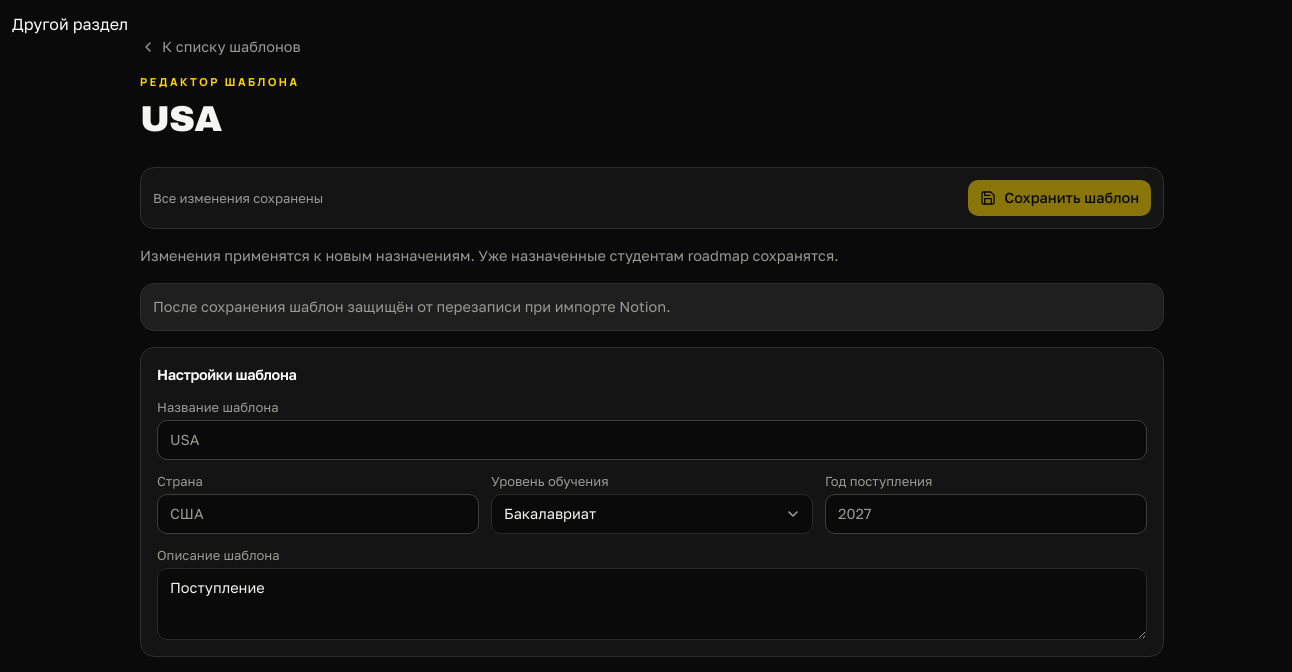
при конфликте версий блокирует перезапись и загружает текущую версию
Replace the text in the field labelled "Название шаблона" with "Моя версия" at (652, 440), box [157, 420, 1147, 460]
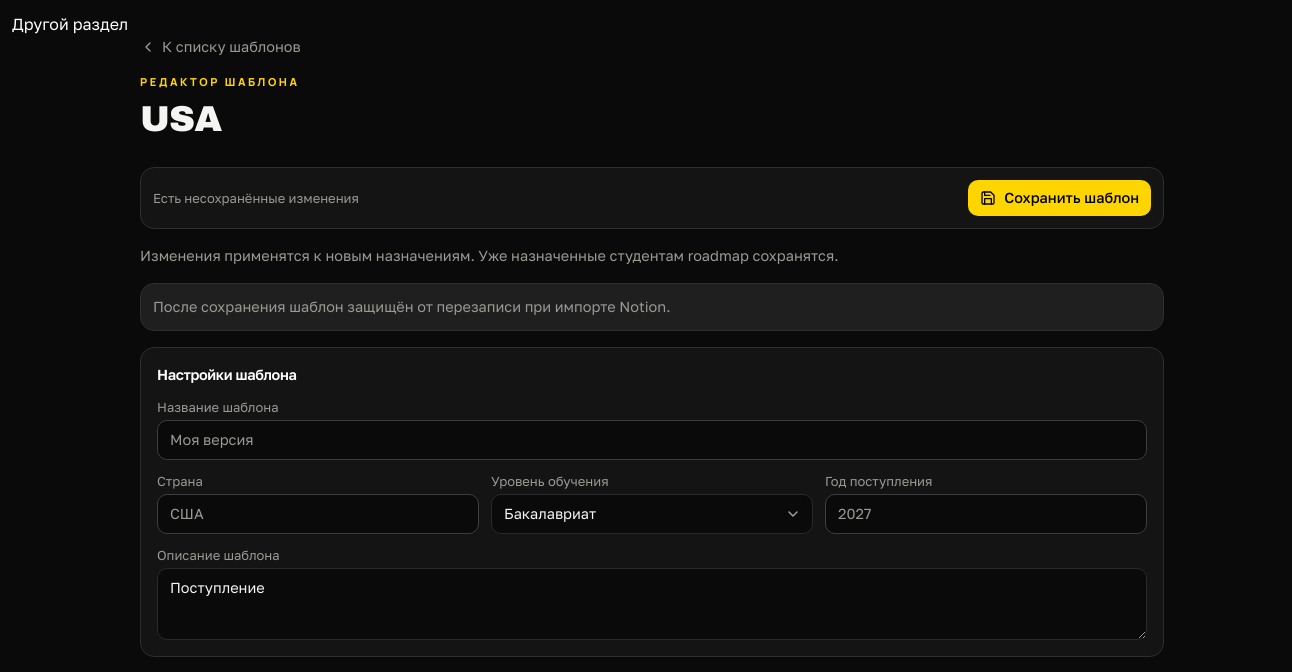
Click the button "Сохранить шаблон".
click(1060, 198)  # box [968, 180, 1151, 216]
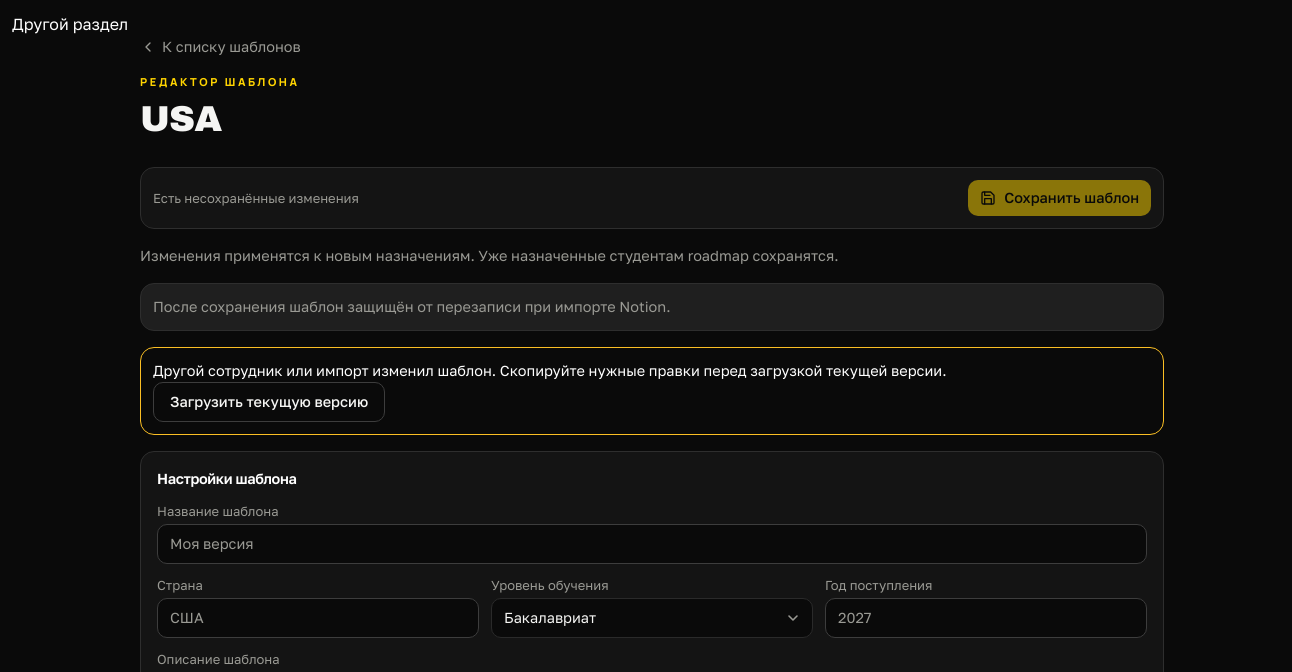
expect the 2nd message shows "Другой сотрудник": met, box [153, 362, 946, 378]
expect the button "Сохранить шаблон" is disabled: met, box [968, 180, 1151, 216]
Click the button "Загрузить текущую версию".
click(269, 402)  # box [153, 382, 385, 422]
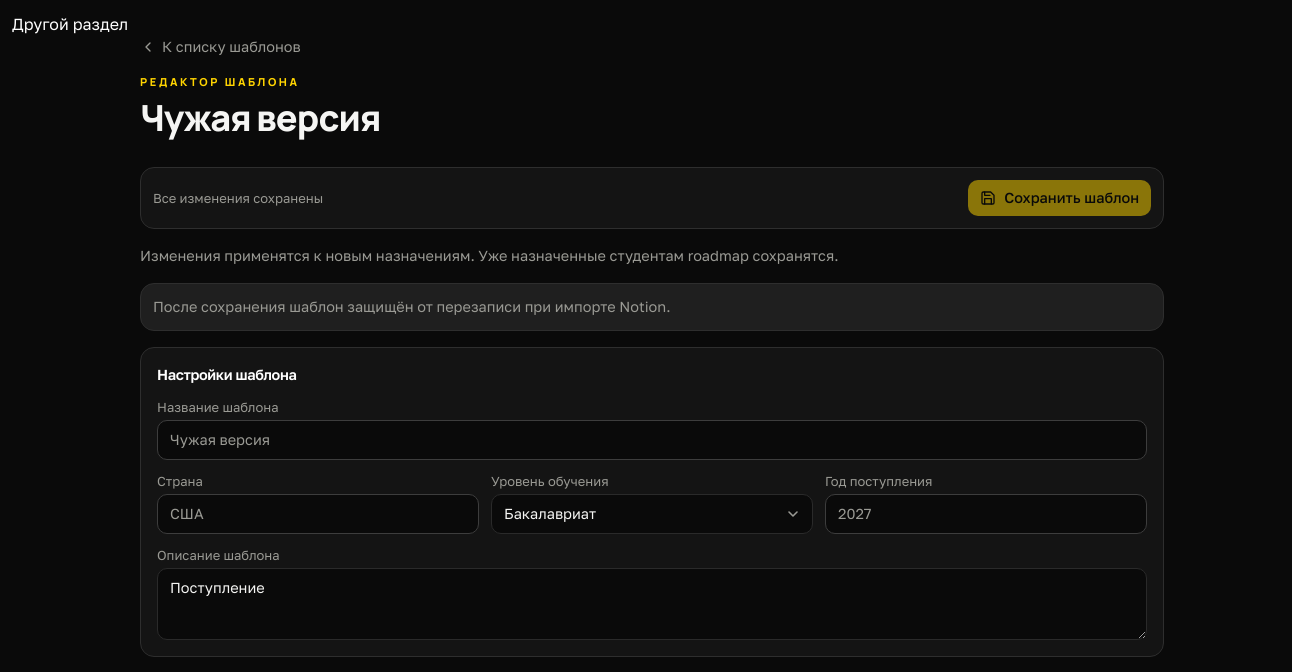
expect the field labelled "Название шаблона" holds "Чужая версия": met, box [157, 420, 1147, 460]
